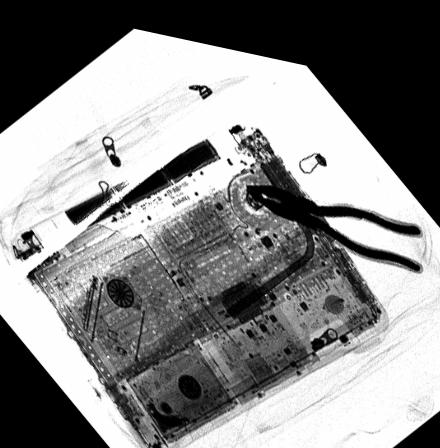Pliers: (242, 169, 424, 254)
